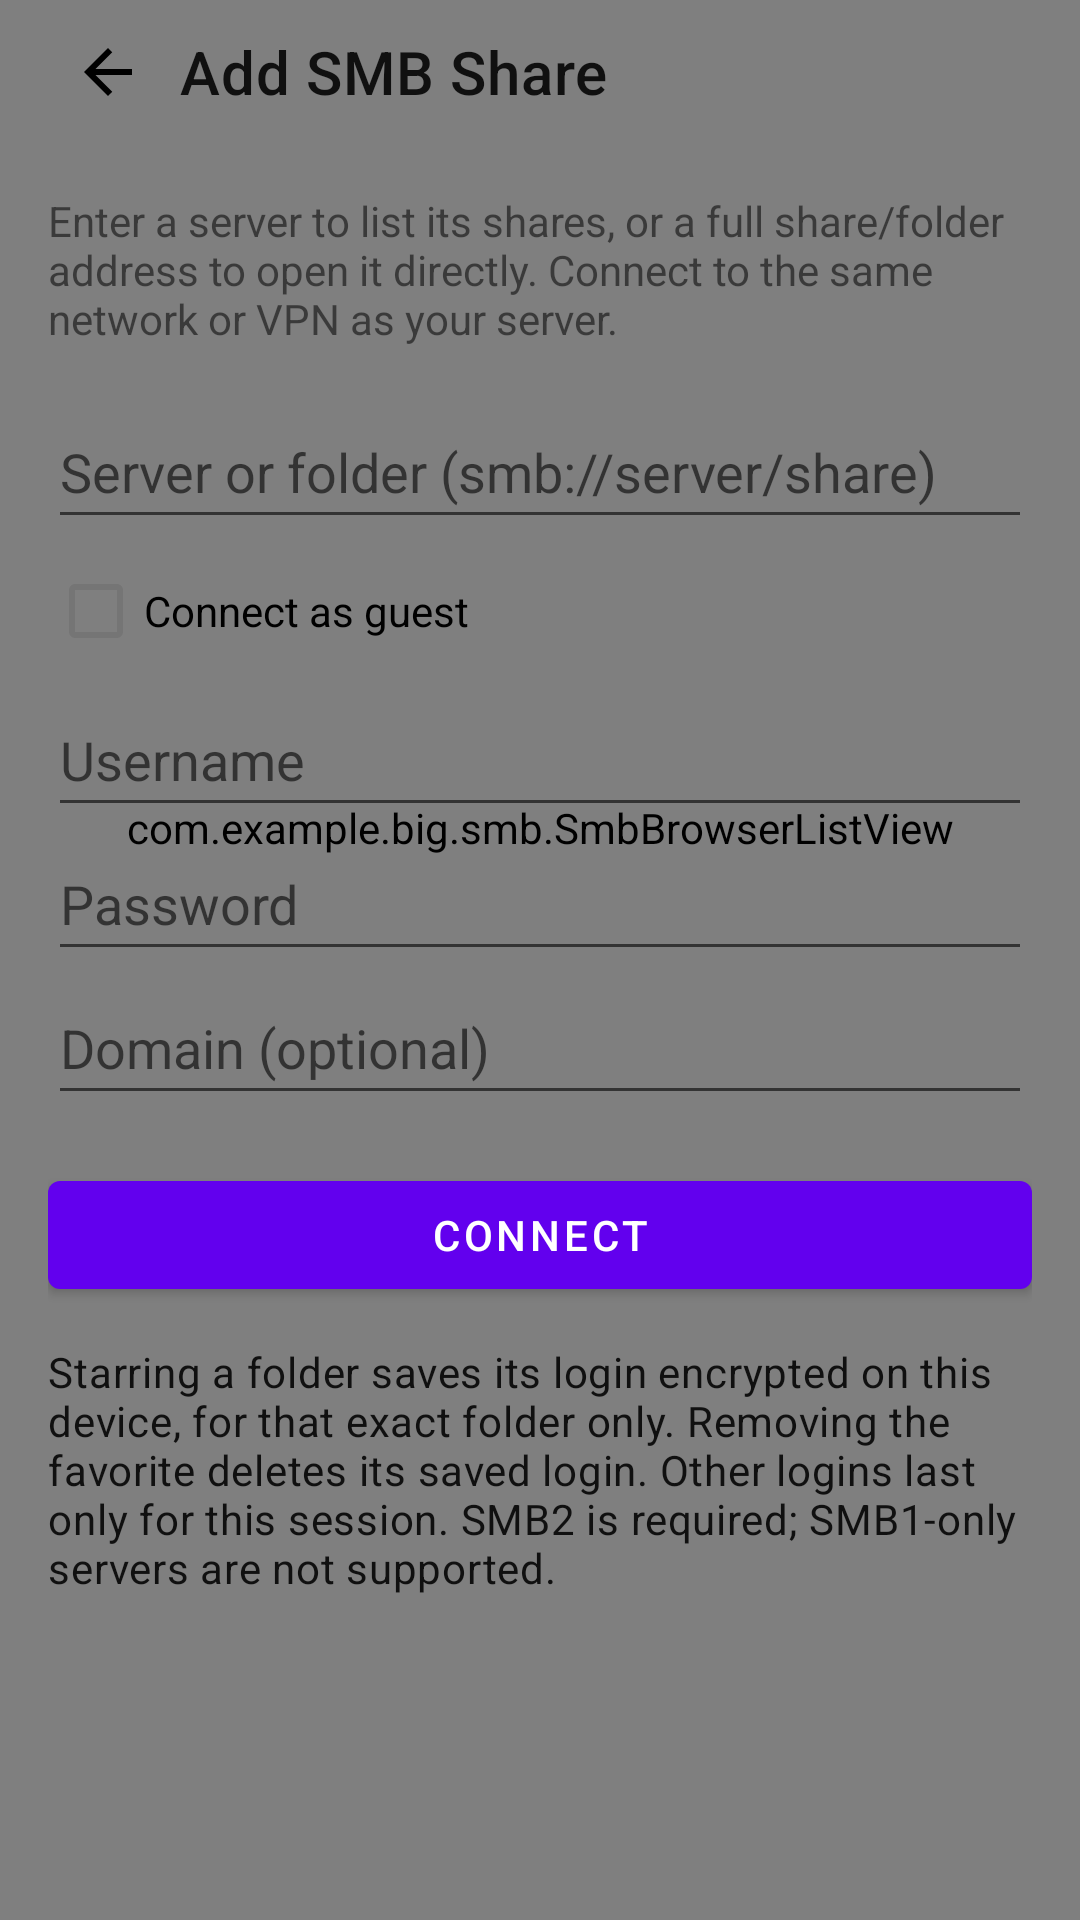

Point at icon controls on the screen. Image size 1080w x 1920h, points as (x=x, y=y).
Back: (x=108, y=72)
